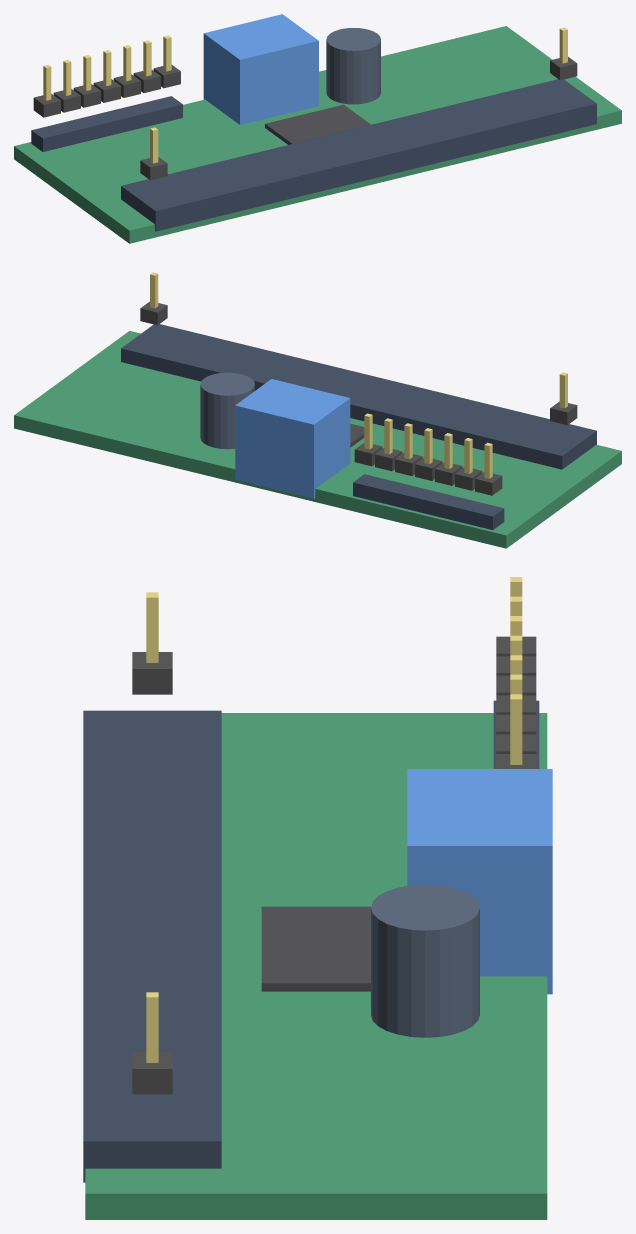
File: pca9685-servo-driver.glb
3 views of the same model, one above another, from view 1: azimuth 30°, elevation 25°; view 2: azimuth 150°, elevation 25°; view 3: azimuth 270°, elevation 25° (orthographic). The views are drawn at different scales.
Visible parts, largest first — view 1: pca9685-servo-driver_mesh; view 2: pca9685-servo-driver_mesh; view 3: pca9685-servo-driver_mesh.
Part boxes in pixels (x1,y1,x2,y2): pca9685-servo-driver_mesh: (14,14,621,243); pca9685-servo-driver_mesh: (14,272,621,548); pca9685-servo-driver_mesh: (83,577,552,1219).
Bounding box in the file's own units: 62.5 × 11.2 × 25.81.
